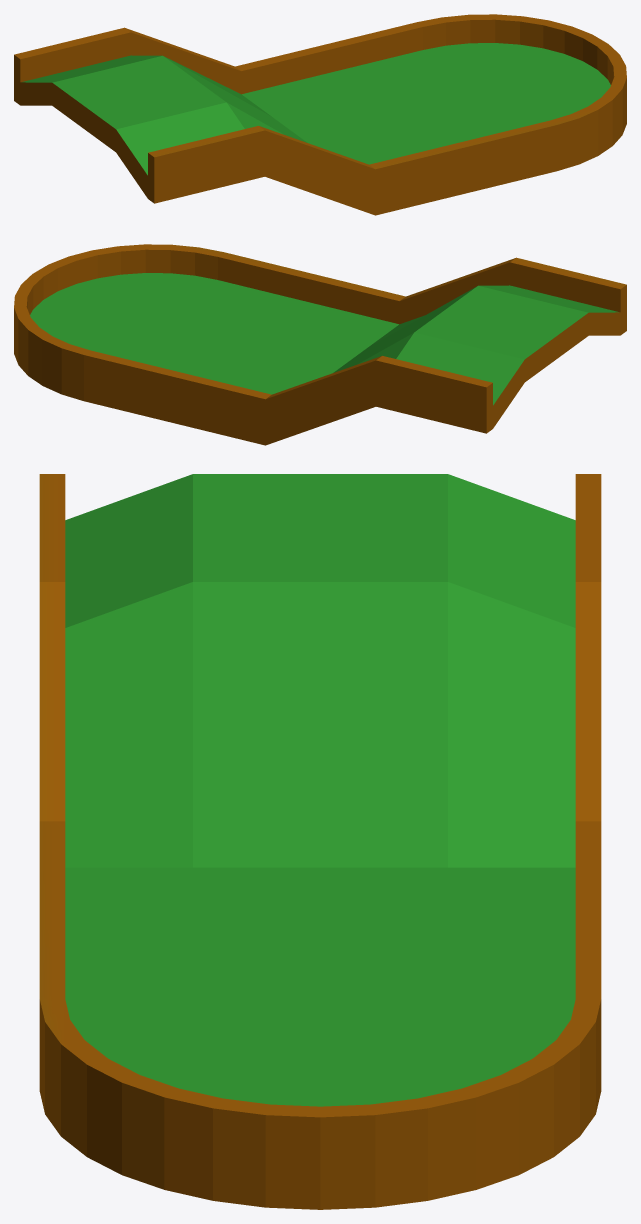
Rendered from track_test_3.fbx.
3 views of the same model, one above another, from view 1: azimuth 30°, elevation 25°; view 2: azimuth 150°, elevation 25°; view 3: azimuth 270°, elevation 25° (orthographic). The views are drawn at different scales.
Parts seen in each view (by area): view 1: Plane; view 2: Plane; view 3: Plane.
Boxes of the visible parts, x1=… form: Plane: x1=14, y1=14, x2=626, y2=215; Plane: x1=14, y1=244, x2=626, y2=445; Plane: x1=39, y1=474, x2=601, y2=1209.
Bounding box in the file's own units: 237 × 48.46 × 110.
